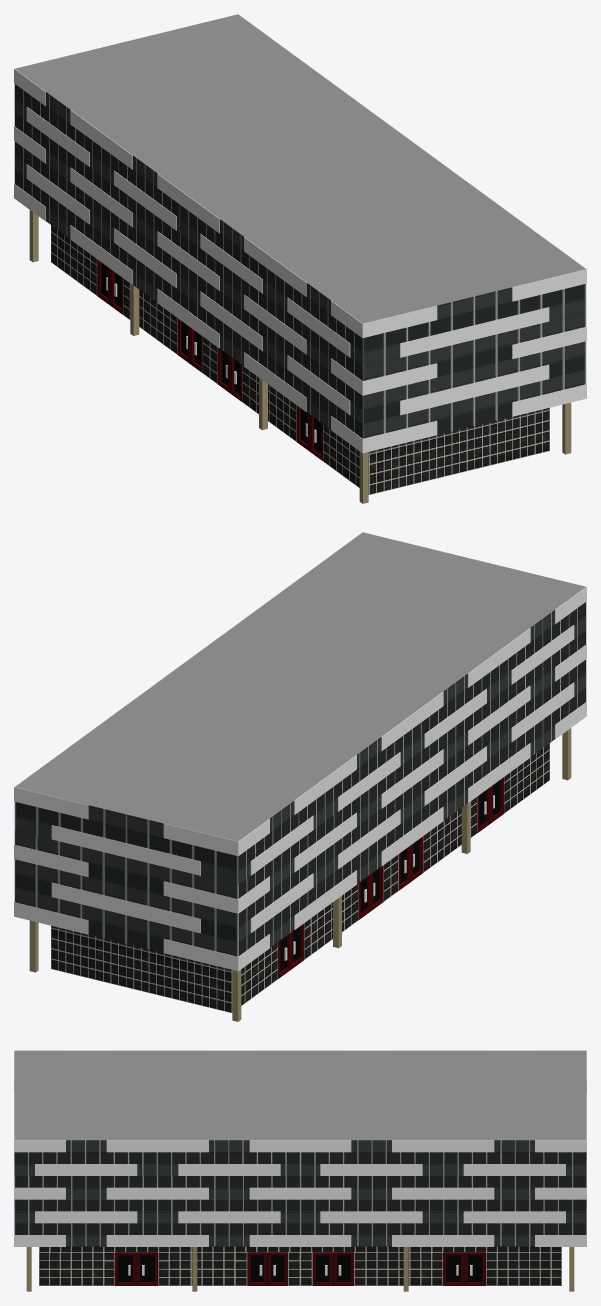
3 renders of one model, top to bottom at view 1: azimuth 30°, elevation 25°; view 2: azimuth 150°, elevation 25°; view 3: azimuth 270°, elevation 25°, orthographic. The views are drawn at different scales.
Parts seen in each view (by area): view 1: MB-06; view 2: MB-06; view 3: MB-06.
Part boxes in pixels (box(x1,y1,x2,y2)): MB-06: box(14, 14, 586, 503); MB-06: box(14, 532, 586, 1021); MB-06: box(14, 1050, 586, 1291).
Size of what is drawn, in the model's own units: 13.59 by 10.86 by 36.55.
